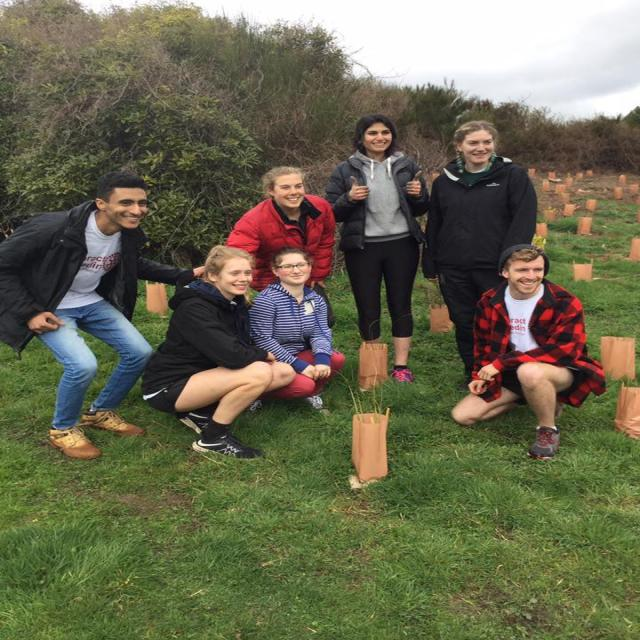body: (0, 169, 209, 463), (445, 242, 608, 463), (136, 243, 299, 463), (418, 118, 540, 391), (318, 110, 434, 388), (224, 164, 338, 330), (247, 246, 348, 417)
